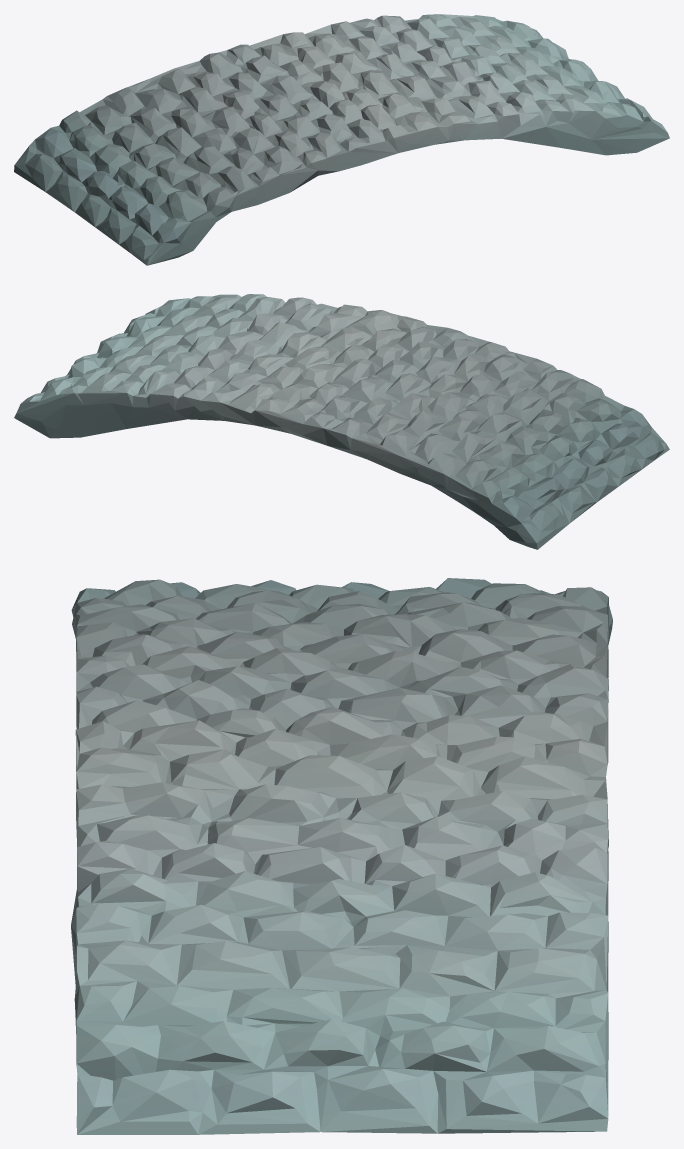
The model's file is Bridge_v01.FBX.
3 renders of one model, top to bottom at view 1: azimuth 30°, elevation 25°; view 2: azimuth 150°, elevation 25°; view 3: azimuth 270°, elevation 25°, orthographic. The views are drawn at different scales.
Visible parts, largest first — view 1: Group11103; view 2: Group11103; view 3: Group11103.
Boxes of the visible parts, <box> form: Group11103: <box>14,14,669,265</box>; Group11103: <box>14,294,669,549</box>; Group11103: <box>71,578,612,1134</box>.
Bounding box in the file's own units: 750 × 120 × 336.
